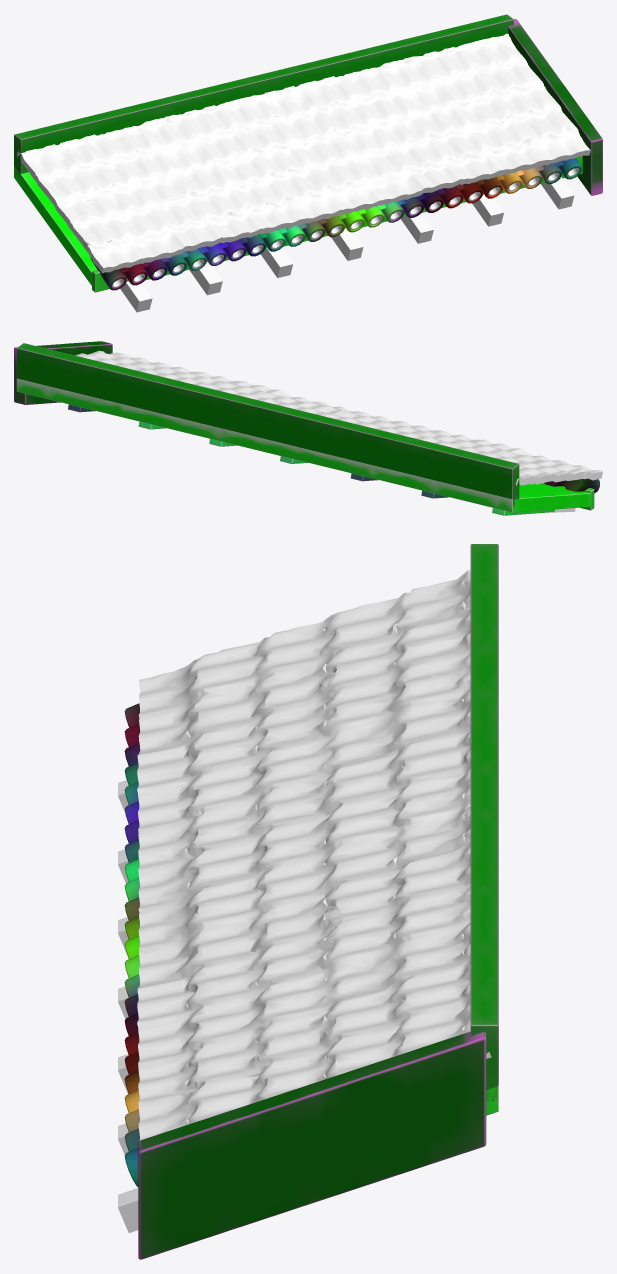
Rendered from overhang_slope_100_01_right.fbx.
3 renders of one model, top to bottom at view 1: azimuth 30°, elevation 25°; view 2: azimuth 150°, elevation 25°; view 3: azimuth 270°, elevation 25°, orthographic. The views are drawn at different scales.
Visible parts, largest first — view 1: overhang_slope_100_01_right; view 2: overhang_slope_100_01_right; view 3: overhang_slope_100_01_right.
Boxes of the visible parts, x1,y1,x2,y2 form: overhang_slope_100_01_right: (14,14,602,312); overhang_slope_100_01_right: (14,341,602,515); overhang_slope_100_01_right: (118,544,498,1259).
Bounding box in the file's own units: 4.05 × 0.9122 × 1.34.
